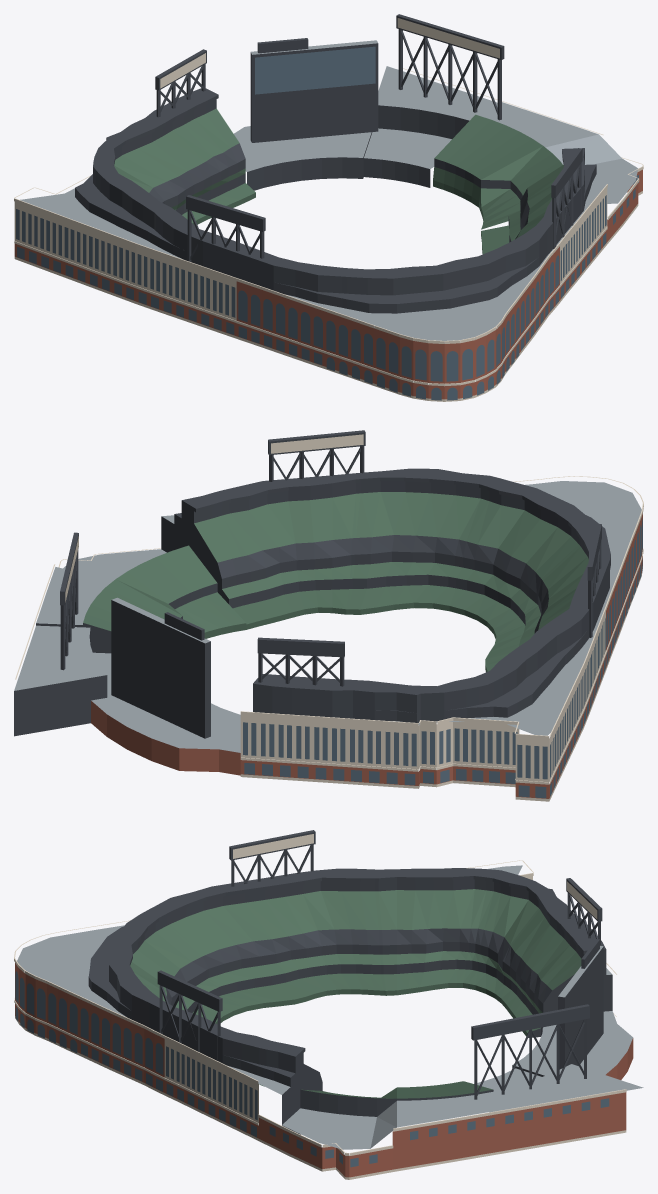
Rendered from nyc-citi-field.glb.
The picture shows the model from 3 angles, top to bottom: view 1: azimuth 30°, elevation 25°; view 2: azimuth 150°, elevation 25°; view 3: azimuth 270°, elevation 25°; orthographic projection. The views are drawn at different scales.
Parts seen in each view (by area): view 1: Citi Field; view 2: Citi Field; view 3: Citi Field.
Boxes of the visible parts, <box> form: Citi Field: <box>14,14,643,401</box>; Citi Field: <box>14,430,643,801</box>; Citi Field: <box>14,830,643,1179</box>.
Size of the model in its own units: 269 by 59 by 276.
